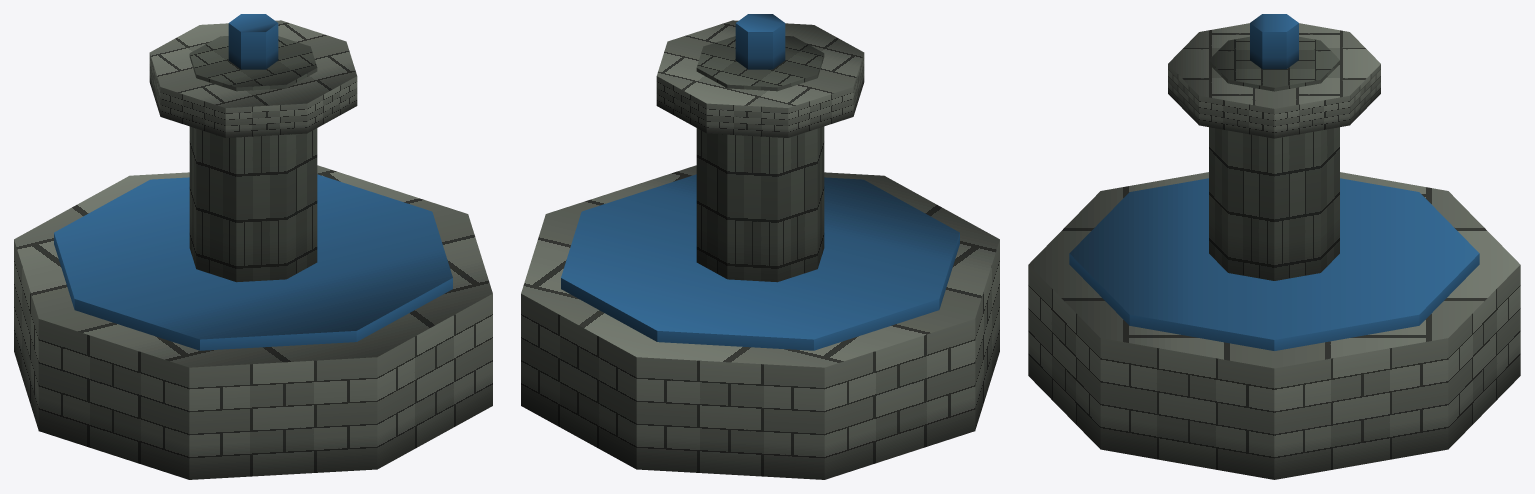
File: fountain.glb
3 views of the same model, side by side, from view 1: azimuth 30°, elevation 25°; view 2: azimuth 150°, elevation 25°; view 3: azimuth 270°, elevation 25° (orthographic).
Visible parts, largest first — view 1: fountain; view 2: fountain; view 3: fountain.
Boxes of the visible parts, left/top/right/bottom form: fountain: left=14, top=14, right=492, bottom=479; fountain: left=521, top=14, right=999, bottom=479; fountain: left=1028, top=14, right=1520, bottom=479.
Bounding box in the file's own units: 1.2 × 0.95 × 1.2.
Materials: 1 (1 with a texture image).
